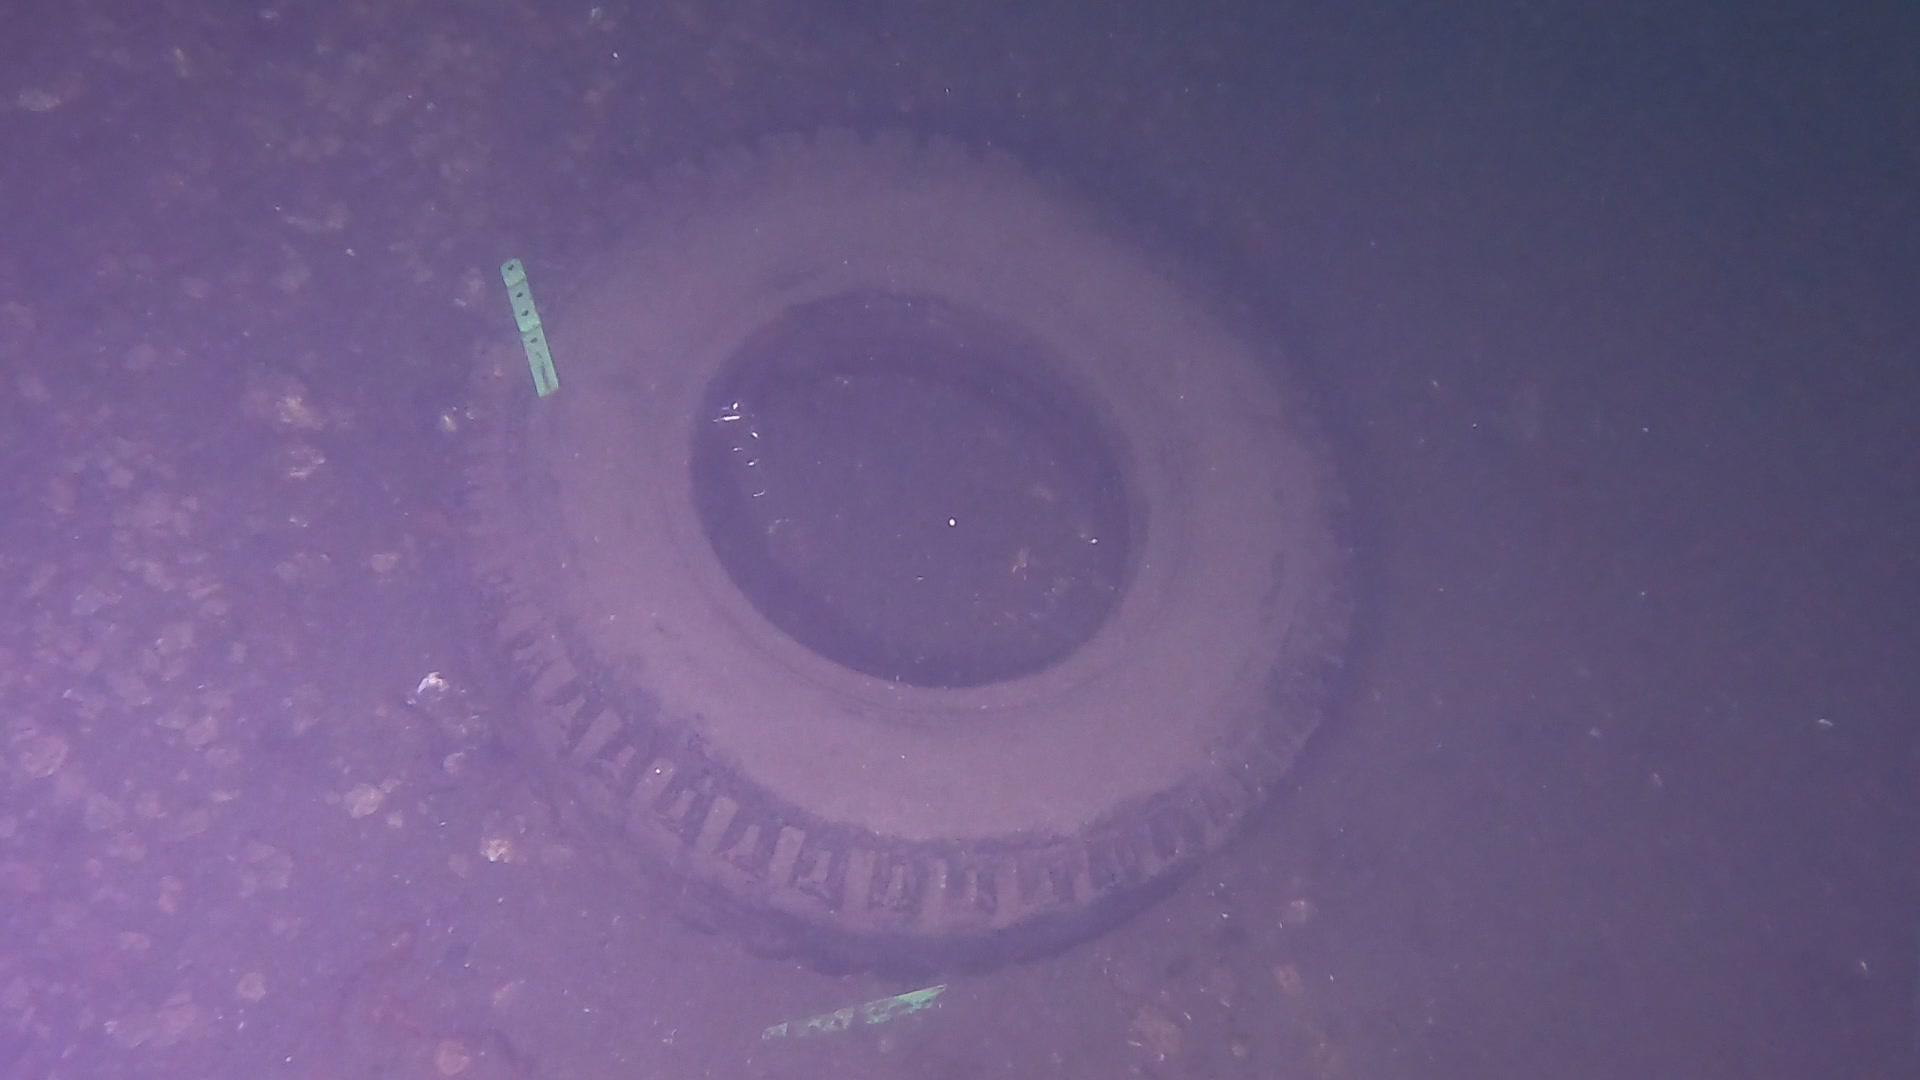tire: (458, 120, 1375, 971)
